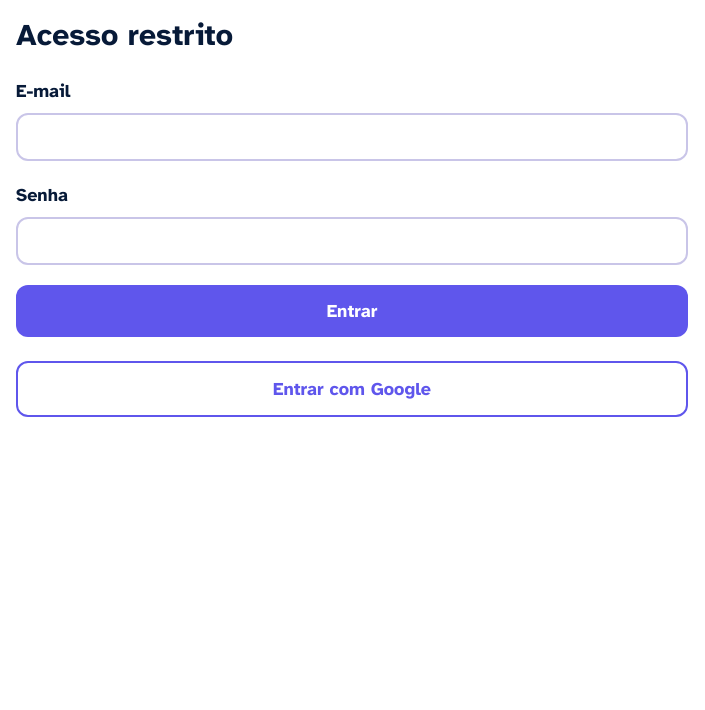
/demo: escolha da conta › também entra com Google
This screenshot has width=705, height=710.
Click the button "Entrar com Google" at (352, 389), box 16,361 -> 688,417
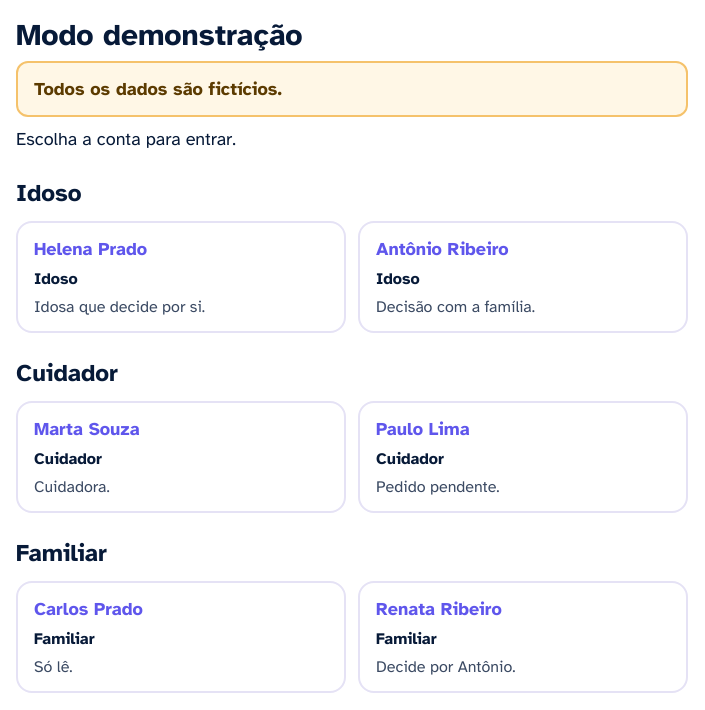
Expected: the heading "Modo demonstração" is shown, 16,16 -> 303,54
